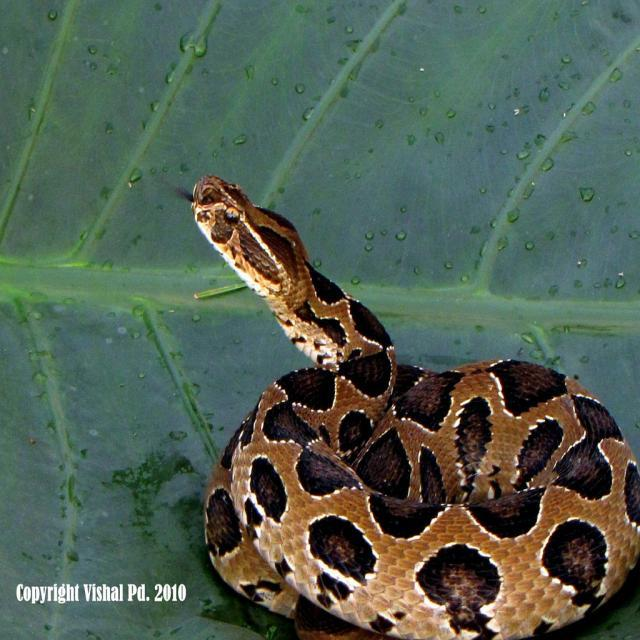Snake: (189, 172, 639, 638)
